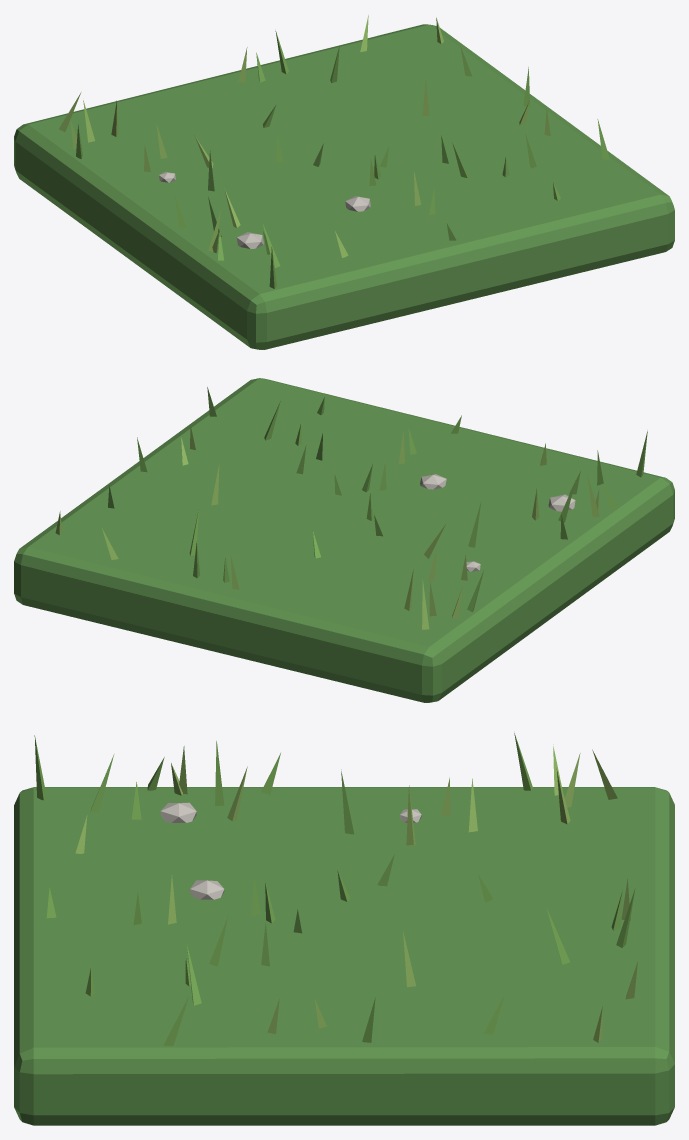
The model's file is grass_1.glb.
The picture shows the model from 3 angles, top to bottom: view 1: azimuth 30°, elevation 25°; view 2: azimuth 150°, elevation 25°; view 3: azimuth 270°, elevation 25°; orthographic projection. The views are drawn at different scales.
Parts seen in each view (by area): view 1: Cube; view 2: Cube; view 3: Cube.
Part boxes in pixels (x1,y1,x2,y2): Cube: (14,15,674,349); Cube: (14,378,674,702); Cube: (14,733,674,1125).
Size of the model in its own units: 4.02 by 0.9132 by 4.02.
